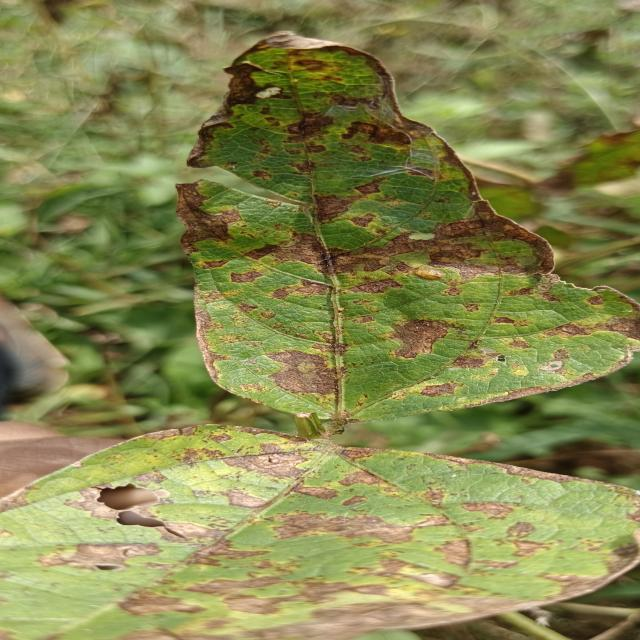Black gram_leaf spot: (168, 30, 640, 427), (7, 430, 640, 640)
